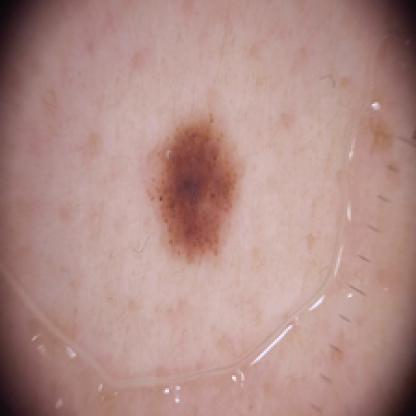benign: (156, 119, 245, 262)
